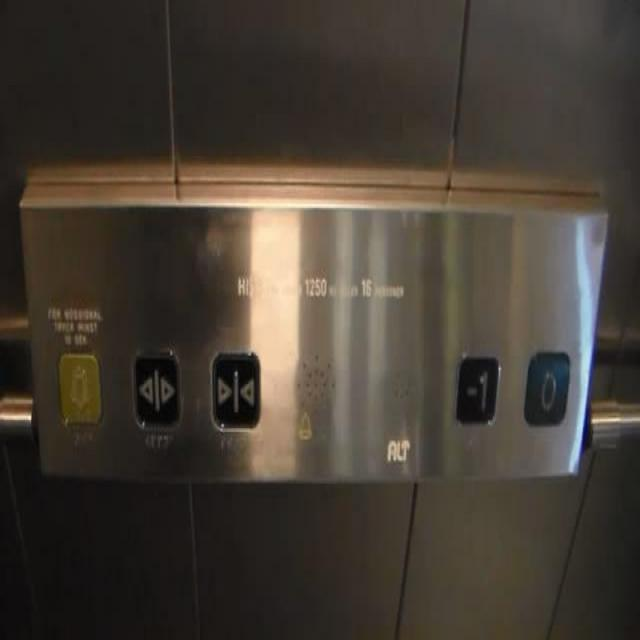-1: (451, 352, 500, 428)
0: (521, 348, 570, 427)
alarm: (58, 352, 99, 423)
close: (210, 349, 260, 428)
open: (130, 349, 181, 428)
